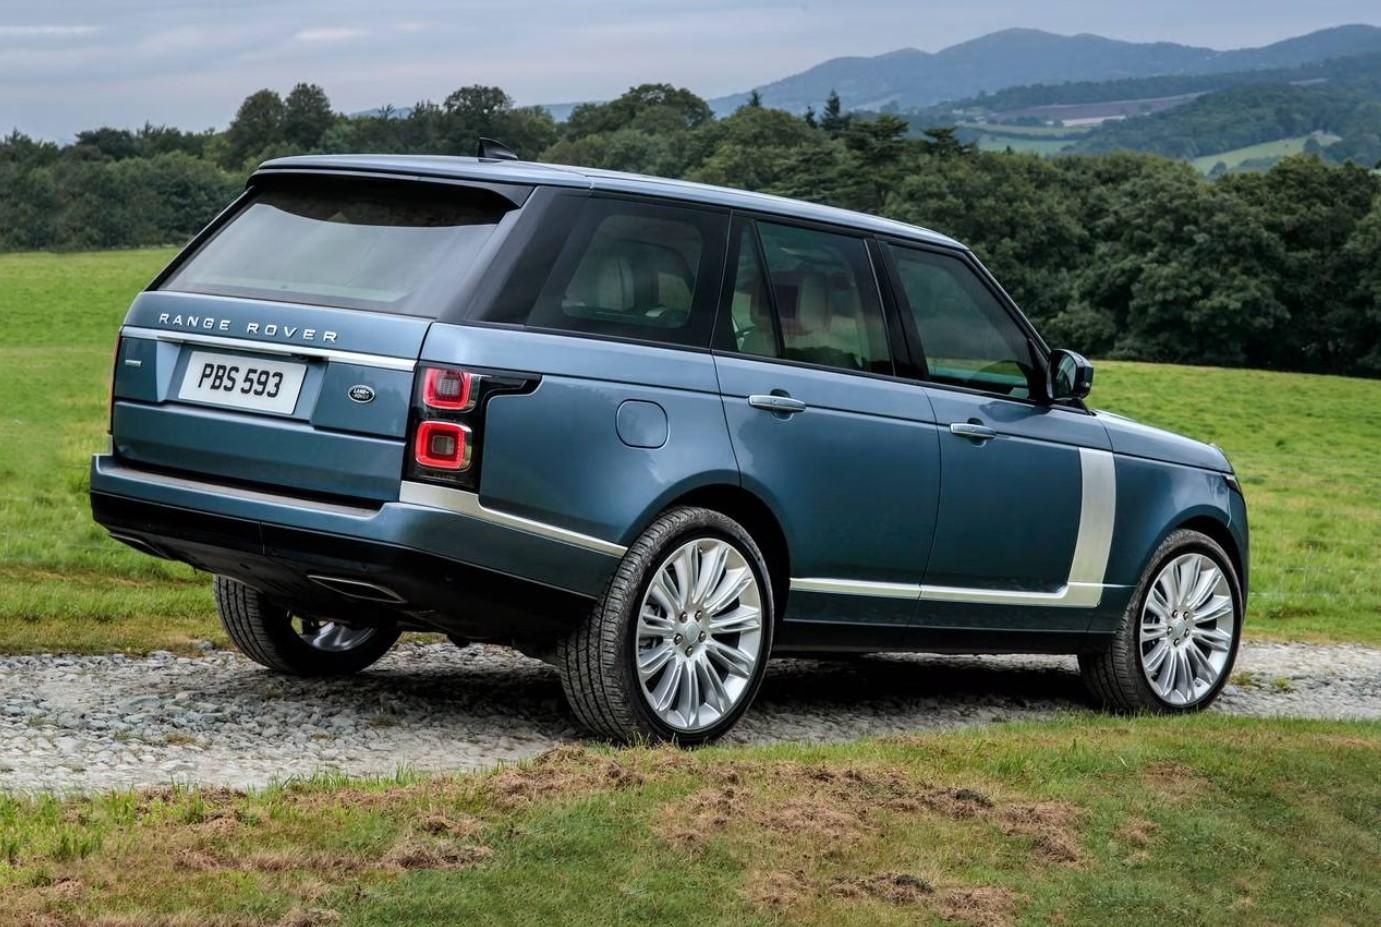range rover: (143, 300, 349, 360)
